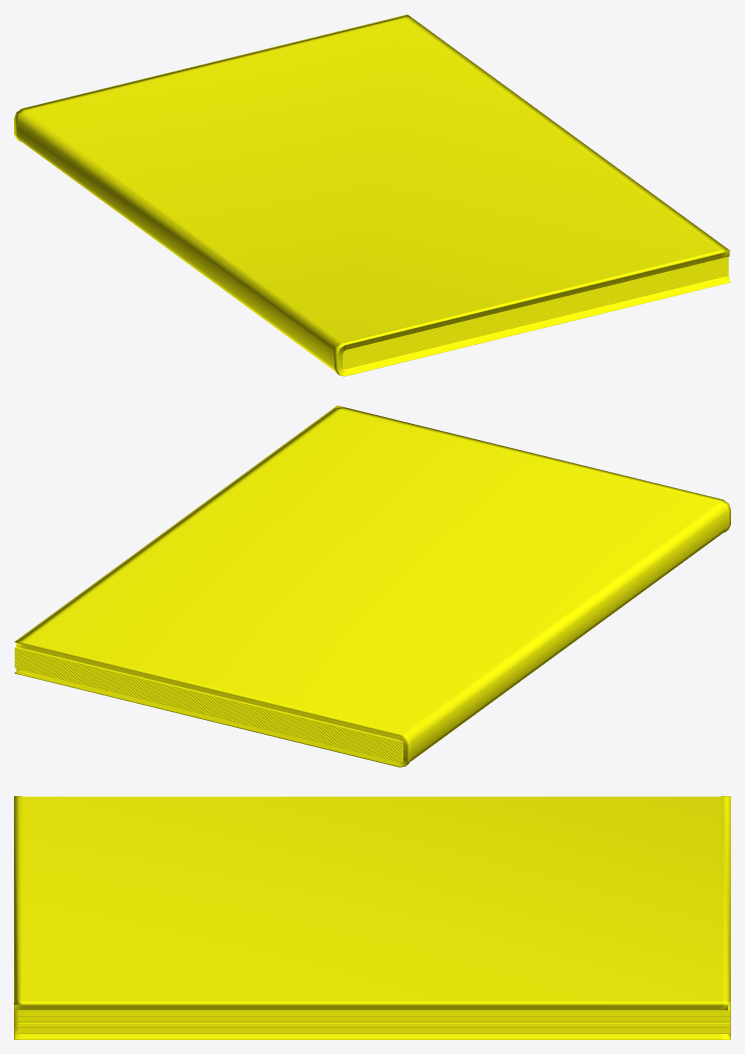
Rendered from caderno.glb.
3 renders of one model, top to bottom at view 1: azimuth 30°, elevation 25°; view 2: azimuth 150°, elevation 25°; view 3: azimuth 270°, elevation 25°, orthographic. The views are drawn at different scales.
Parts seen in each view (by area): view 1: Cube, Plane; view 2: Cube, Plane; view 3: Cube, Plane.
Part boxes in pixels (x1,y1,x2,y2): Cube: [14, 14, 730, 376]; Plane: [342, 257, 728, 369]; Cube: [14, 405, 730, 767]; Plane: [14, 646, 403, 762]; Cube: [14, 796, 730, 1039]; Plane: [18, 1005, 730, 1033].
Bounding box in the file's own units: 2.9 × 0.2207 × 4.13.
Materials: 2 (2 with a texture image).
